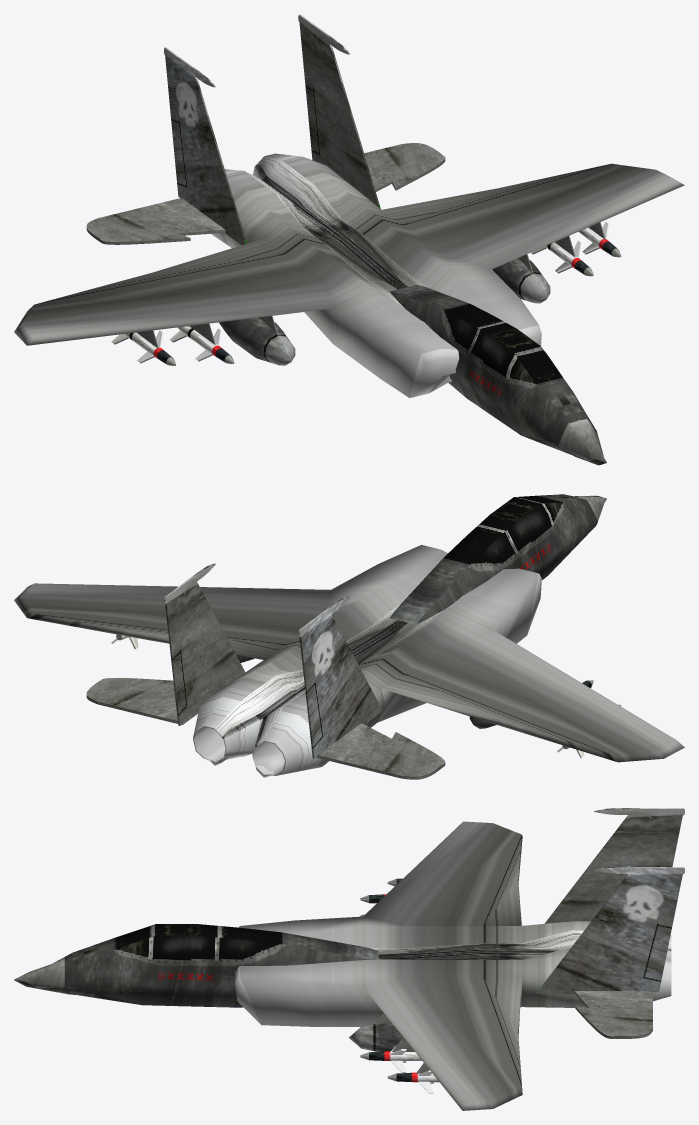
File: Tomcat.fbx
The picture shows the model from 3 angles, top to bottom: view 1: azimuth 30°, elevation 25°; view 2: azimuth 150°, elevation 25°; view 3: azimuth 270°, elevation 25°; orthographic projection. The views are drawn at different scales.
Visible parts, largest first — view 1: Plane11, Plane13, Plane10, Line20, Line26, Line17, Plane12, Line25, Sphere03, Sphere04, Cylinder05, Cylinder06 (+1 smaller); view 2: Plane11, Plane13, Plane10, Line20, Line26, Line17, Line25, Plane12; view 3: Plane13, Plane11, Plane12, Line26, Line20, Line25, Plane10, Sphere04, Cylinder07, Cylinder08.
Part boxes in pixels (x1,y1,x2,y2): Plane11: [14, 169, 459, 398]; Plane13: [253, 153, 684, 345]; Plane10: [389, 288, 606, 464]; Line20: [164, 47, 246, 244]; Line26: [298, 14, 380, 208]; Line17: [86, 198, 225, 244]; Plane12: [404, 285, 605, 465]; Line25: [364, 143, 445, 191]; Sphere03: [219, 317, 295, 365]; Sphere04: [492, 258, 550, 303]; Cylinder05: [169, 326, 234, 363]; Cylinder06: [111, 330, 175, 365]; Plane11: [252, 568, 684, 777]; Plane13: [14, 545, 447, 765]; Plane10: [402, 495, 605, 624]; Line20: [298, 596, 382, 758]; Line26: [164, 563, 245, 725]; Line17: [316, 723, 445, 779]; Line25: [86, 678, 194, 724]; Plane12: [390, 494, 606, 620]; Plane13: [235, 947, 671, 1110]; Plane11: [239, 821, 671, 961]; Plane12: [14, 929, 378, 1007]; Line26: [536, 866, 684, 994]; Line20: [544, 808, 684, 923]; Line25: [574, 991, 652, 1038]; Plane10: [14, 924, 378, 994]; Sphere04: [348, 1022, 402, 1051]; Cylinder07: [360, 1045, 421, 1072]; Cylinder08: [387, 1070, 438, 1093].
Size of what is drawn, in the model's own units: 408 by 109 by 402.
